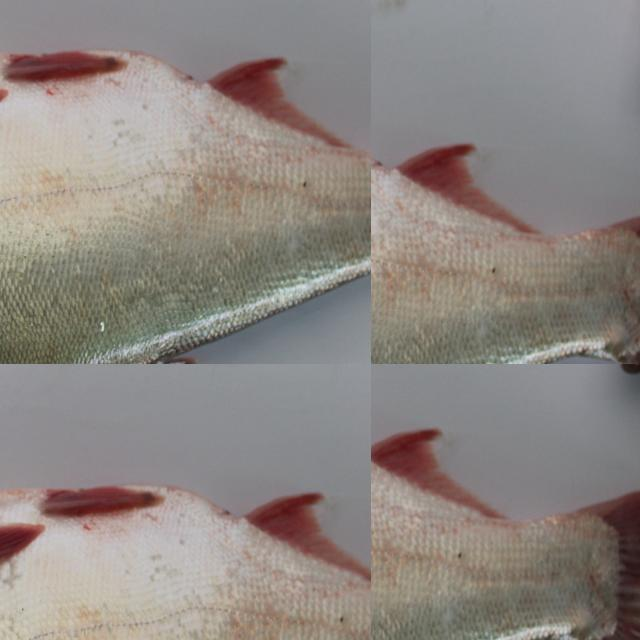fish: (371, 383, 640, 640)
